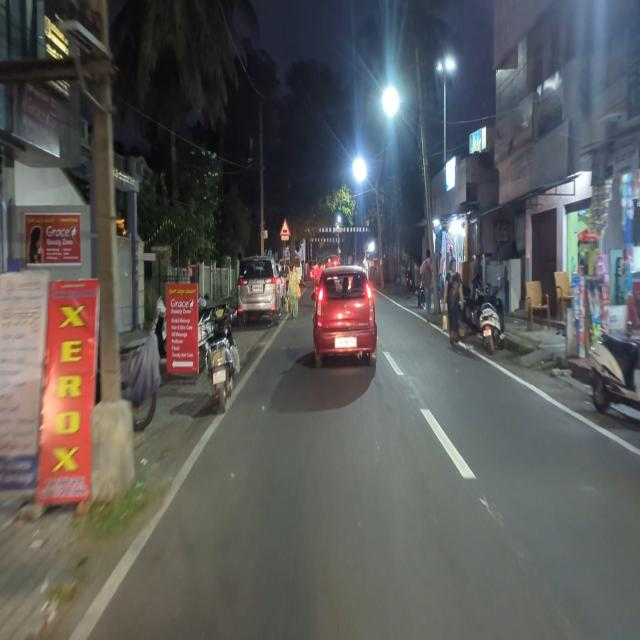bien_cam: (279, 217, 291, 237)
